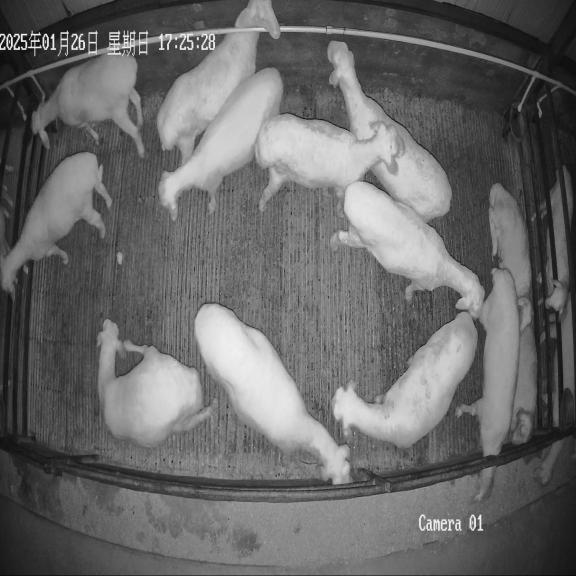drinking: (31, 54, 145, 156)
eating: (455, 268, 520, 501)
lying: (489, 183, 533, 331), (511, 323, 537, 444)
stand: (194, 304, 350, 484), (327, 41, 452, 220), (330, 181, 484, 317), (157, 0, 280, 163), (332, 312, 477, 448), (158, 68, 283, 220), (0, 152, 112, 298), (255, 114, 405, 215), (97, 319, 215, 447)
